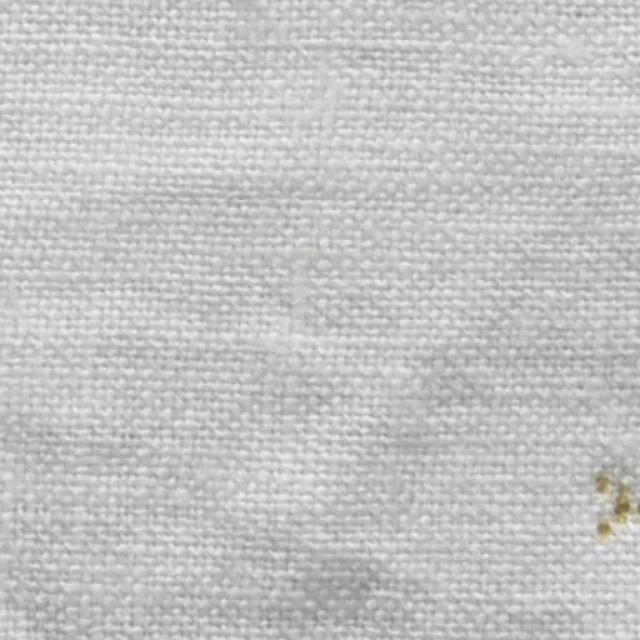Stain: (583, 463, 640, 538)
